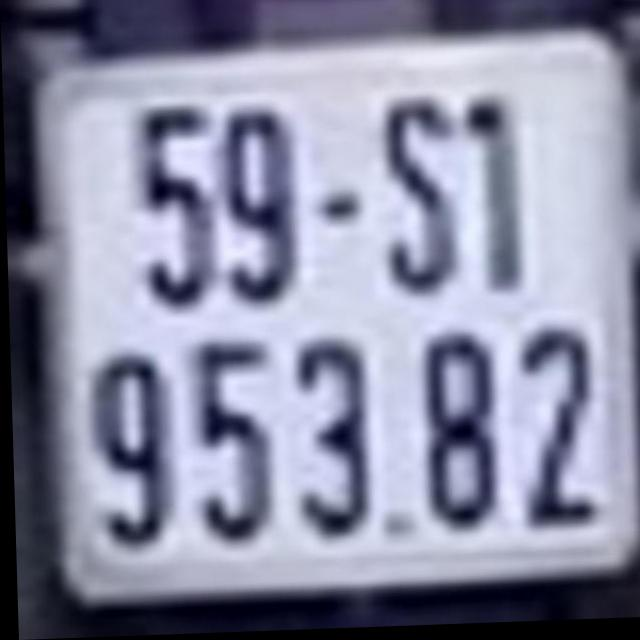1: (463, 88, 526, 291)
2: (515, 327, 602, 530)
3: (291, 330, 373, 539)
5: (180, 328, 285, 548), (138, 93, 219, 313)
8: (411, 324, 503, 531)
9: (91, 348, 174, 558), (221, 96, 300, 316)
S: (379, 92, 460, 303)
